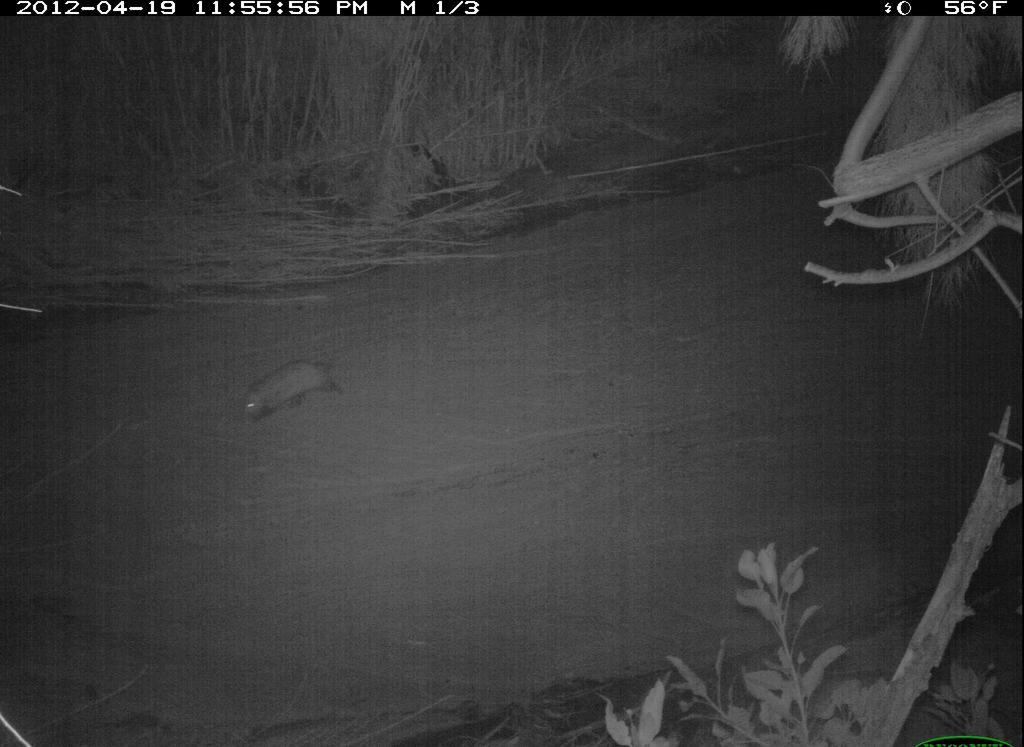opossum: (239, 337, 365, 431)
